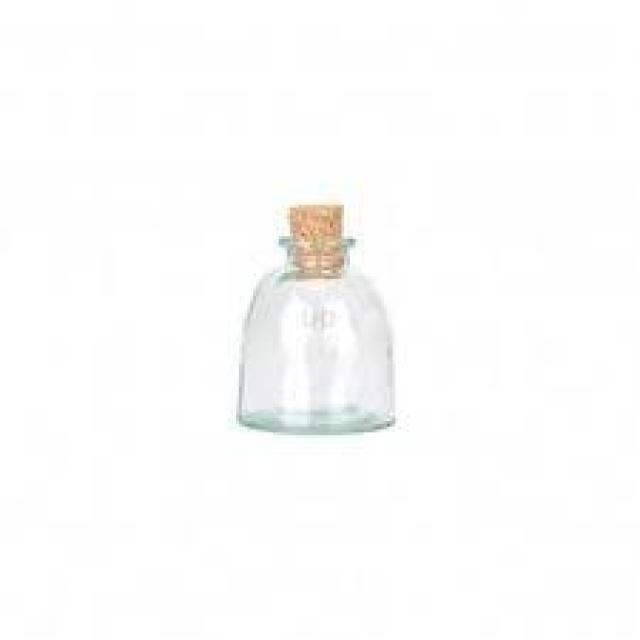Glass: (239, 200, 401, 437)
